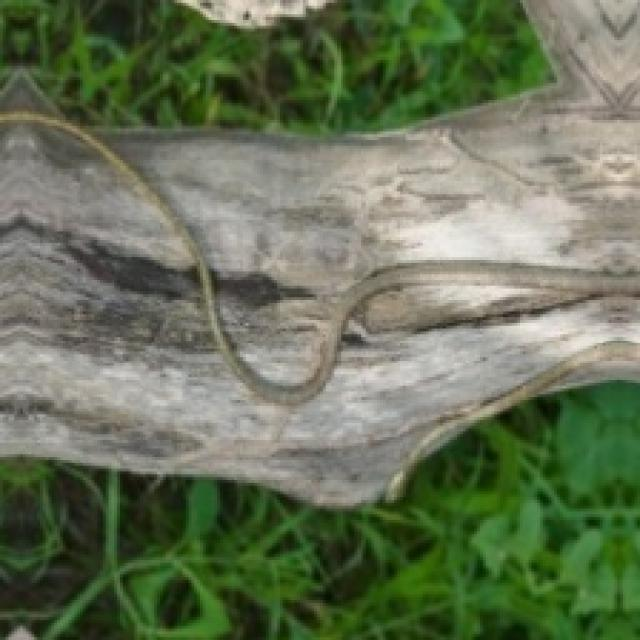paradise tree snake: (0, 89, 637, 503)
